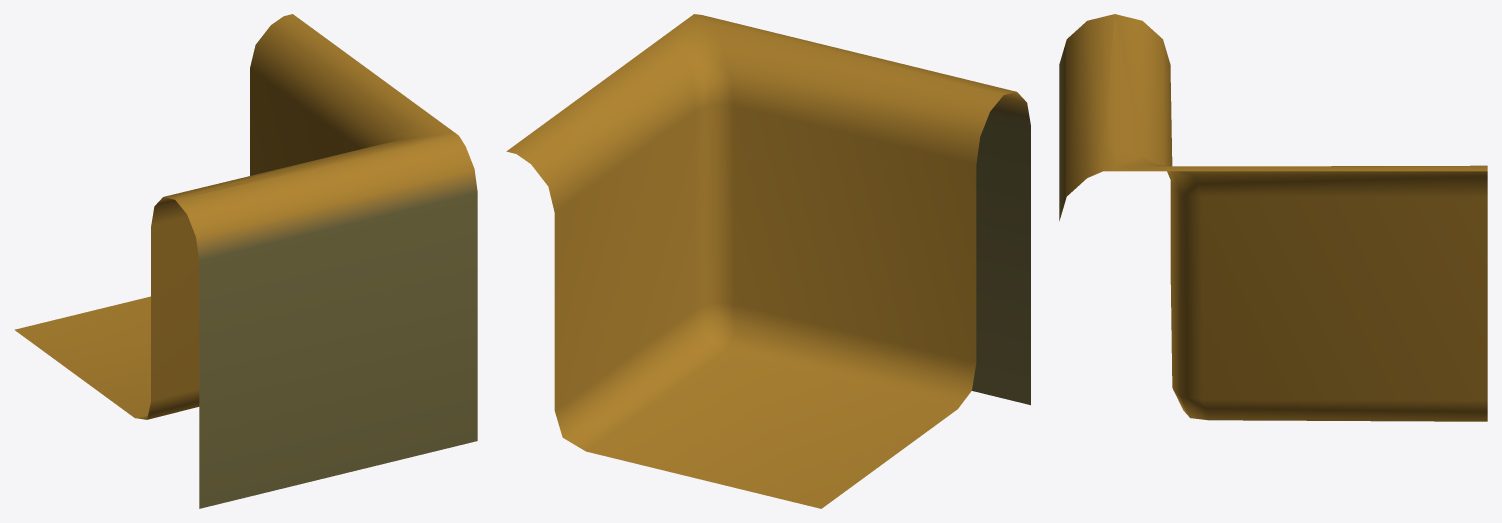
File: Base_PoolCornerBoard.fbx
The picture shows the model from 3 angles, left to right: view 1: azimuth 30°, elevation 25°; view 2: azimuth 150°, elevation 25°; view 3: azimuth 270°, elevation 25°; orthographic projection. The views are drawn at different scales.
Parts seen in each view (by area): view 1: Base_PoolCornerBoard; view 2: Base_PoolCornerBoard; view 3: Base_PoolCornerBoard.
Boxes of the visible parts, box(x1,y1,x2,y2) form: Base_PoolCornerBoard: box(14, 14, 477, 508); Base_PoolCornerBoard: box(506, 14, 1030, 508); Base_PoolCornerBoard: box(1059, 14, 1487, 421).
Bounding box in the file's own units: 2000 × 2000 × 2300.
